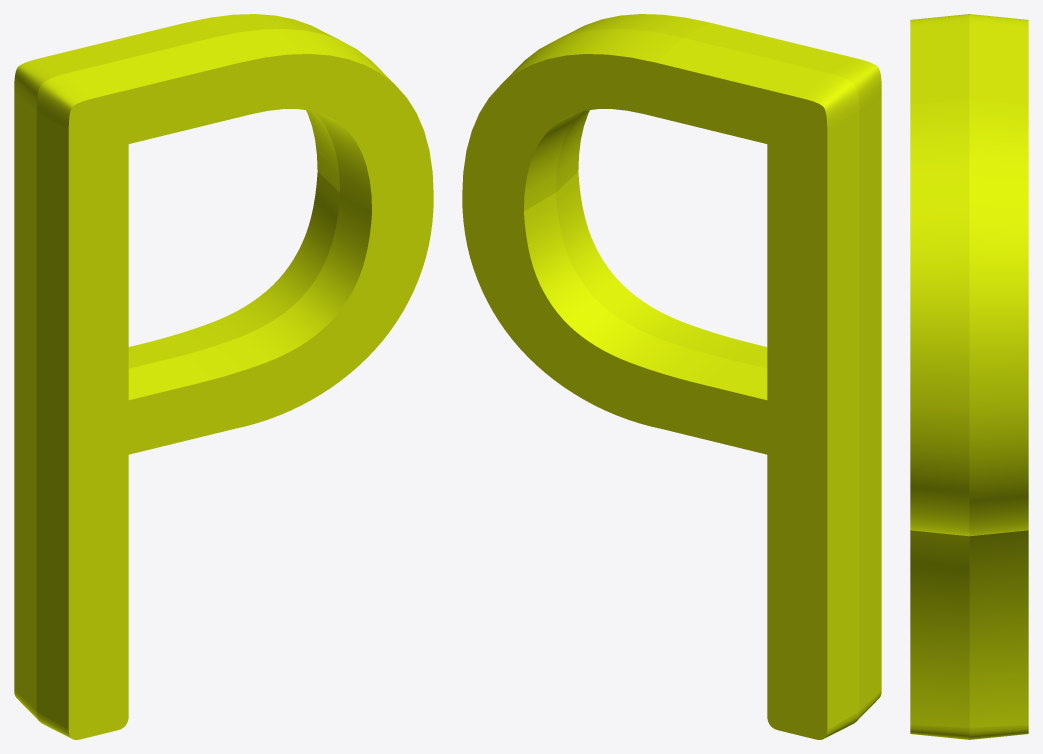
File: P_Color.FBX
3 renders of one model, left to right at view 1: azimuth 30°, elevation 25°; view 2: azimuth 150°, elevation 25°; view 3: azimuth 270°, elevation 25°, orthographic. The views are drawn at different scales.
Parts seen in each view (by area): view 1: P_Color; view 2: P_Color; view 3: P_Color.
Part boxes in pixels (box(x1,y1,x2,y2)): P_Color: box(14, 14, 433, 739); P_Color: box(462, 14, 881, 739); P_Color: box(910, 14, 1028, 739).
Bounding box in the file's own units: 51.52 × 85.15 × 13.
